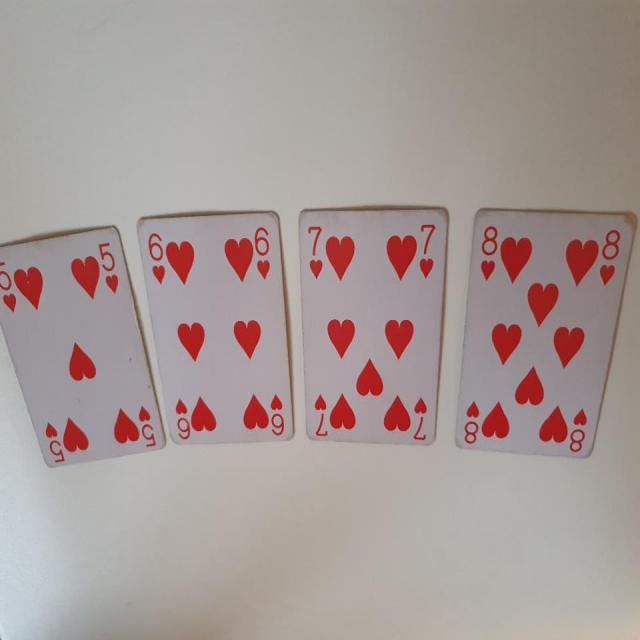5 Hearts: (1, 230, 171, 470)
6 Hearts: (127, 197, 302, 458)
7 Hearts: (294, 206, 451, 454)
8 Hearts: (450, 201, 638, 471)
